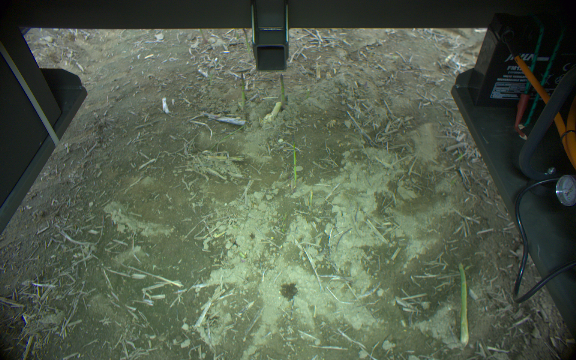aspa: (455, 259, 471, 344), (290, 140, 301, 189), (237, 70, 247, 111), (268, 100, 282, 124), (241, 28, 252, 56), (277, 73, 287, 102)
